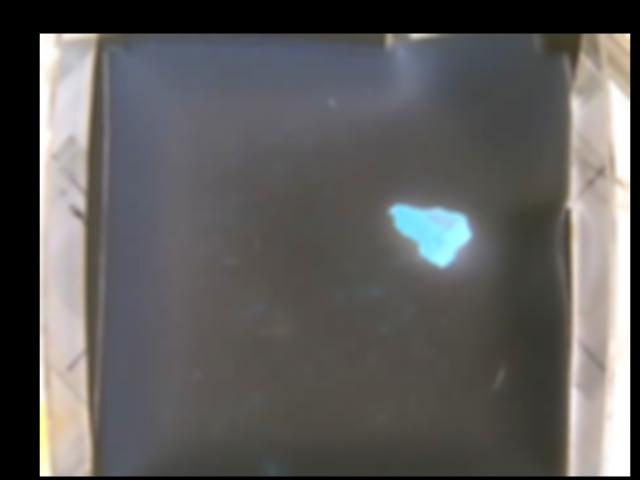Brisk: (389, 199, 470, 266)
